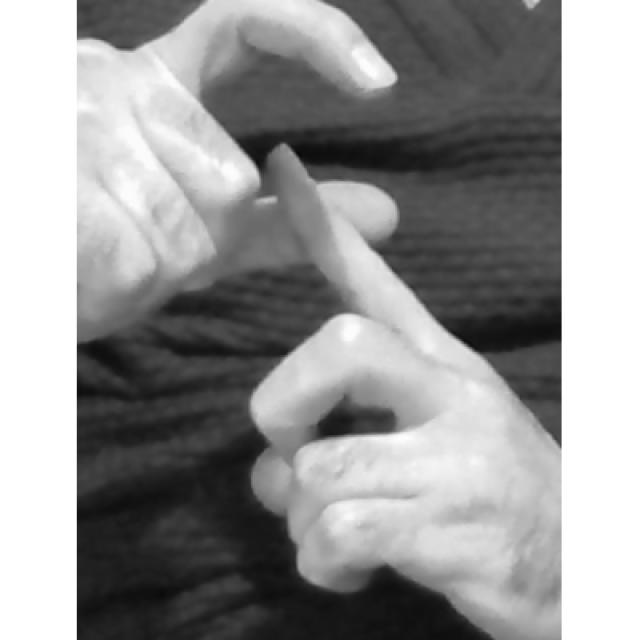C_: (77, 0, 558, 640)
